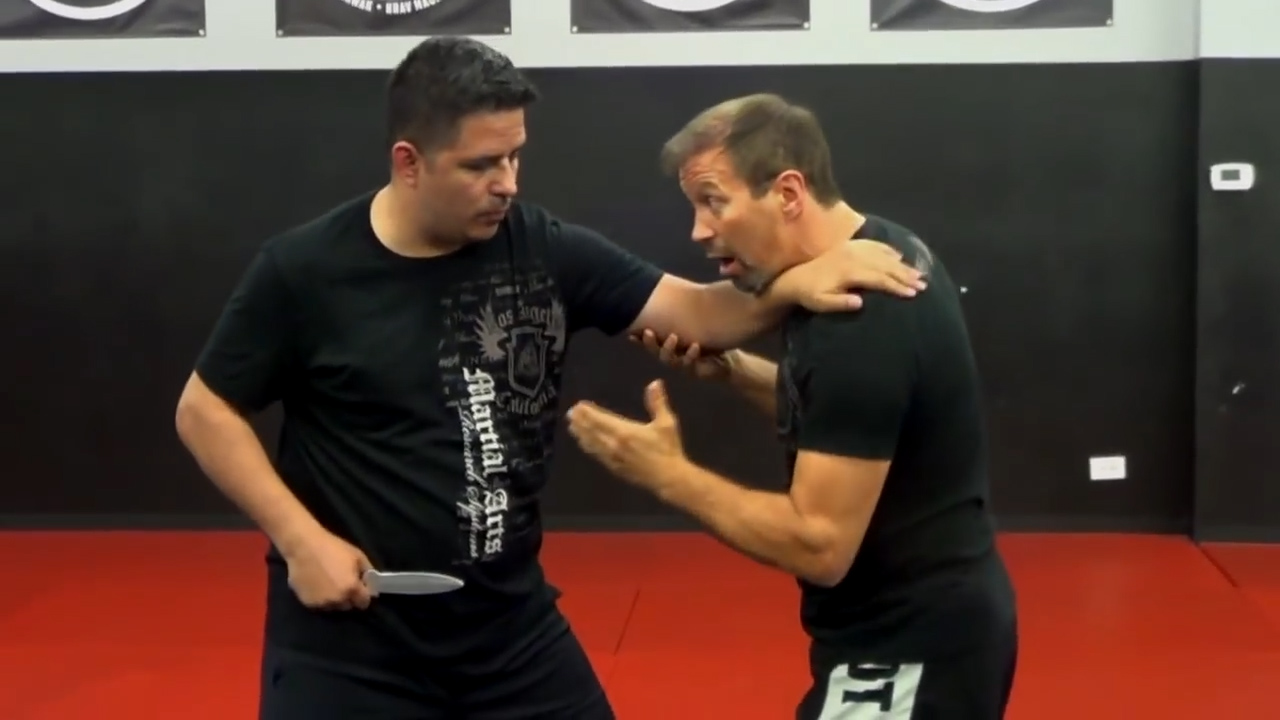knife: (278, 556, 480, 611)
